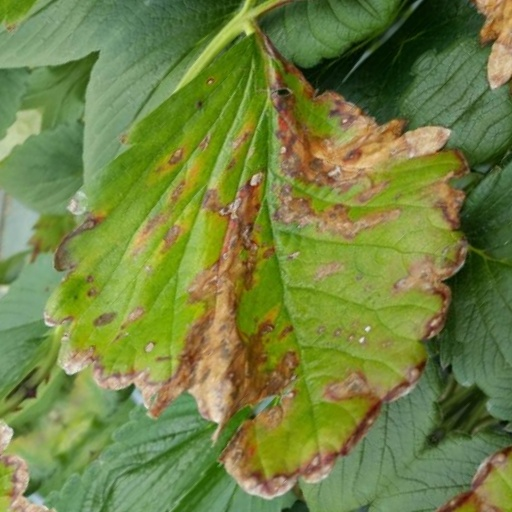Angular Leafspot: (74, 34, 466, 488)
